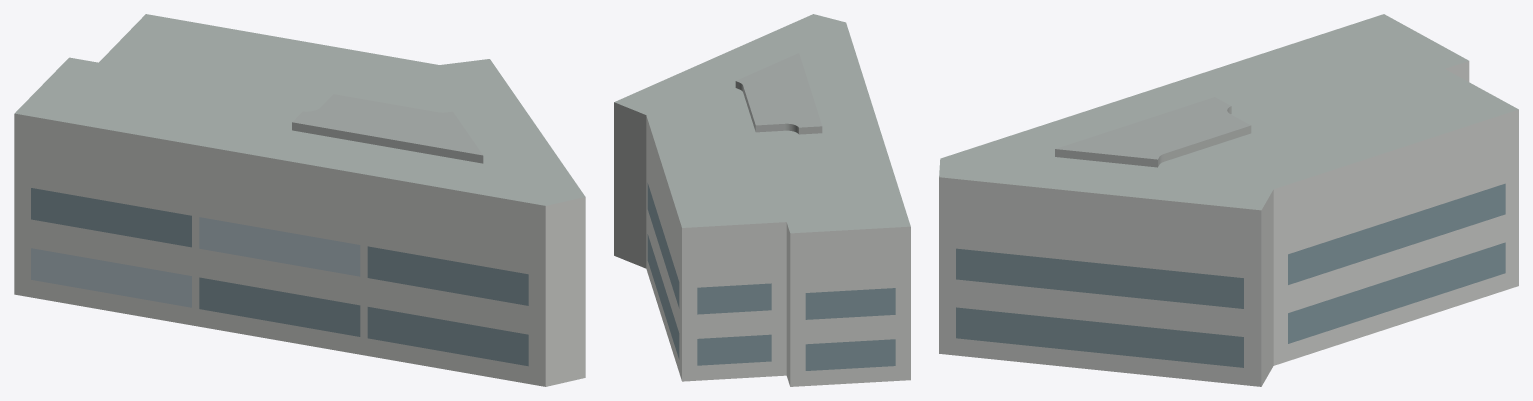
The model's file is named-apt-359ea197-db19-4690-b8b1-363bd9891528.glb.
The picture shows the model from 3 angles, left to right: view 1: azimuth 30°, elevation 25°; view 2: azimuth 150°, elevation 25°; view 3: azimuth 270°, elevation 25°; orthographic projection. The views are drawn at different scales.
Parts seen in each view (by area): view 1: named-apt-359ea197-db19-4690-b8b1-363bd9891528; view 2: named-apt-359ea197-db19-4690-b8b1-363bd9891528; view 3: named-apt-359ea197-db19-4690-b8b1-363bd9891528.
Part boxes in pixels (x1,y1,x2,y2): named-apt-359ea197-db19-4690-b8b1-363bd9891528: (14,14,585,386); named-apt-359ea197-db19-4690-b8b1-363bd9891528: (614,14,910,386); named-apt-359ea197-db19-4690-b8b1-363bd9891528: (939,14,1518,386).
Bounding box in the file's own units: 21.82 × 9.56 × 27.23.
